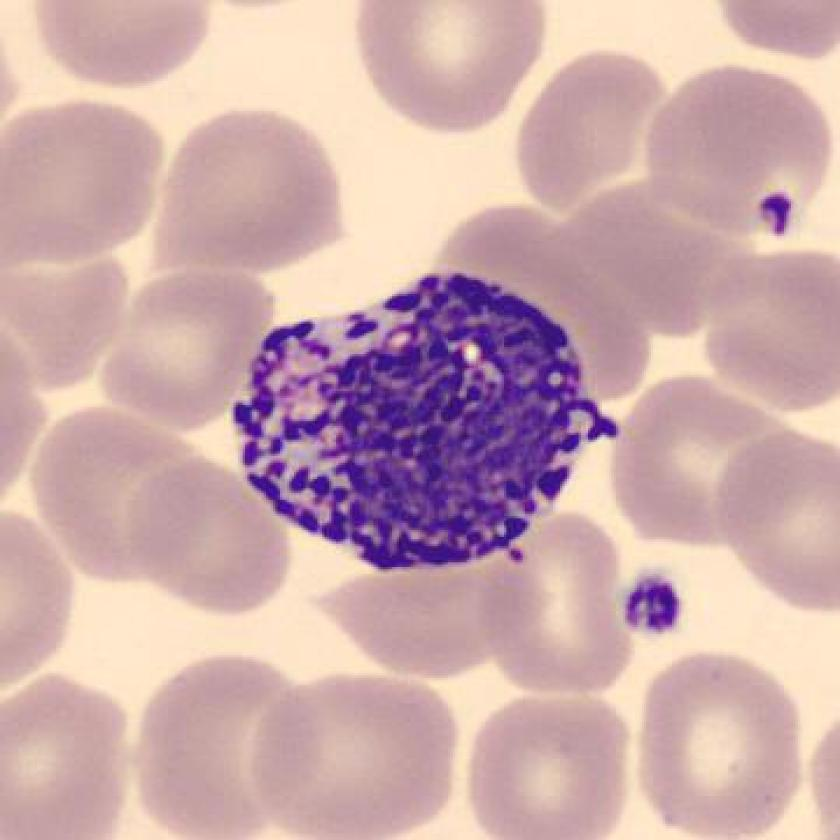basophil: (237, 272, 612, 584)
